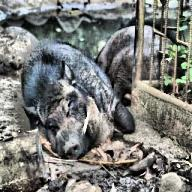boar: (19, 38, 135, 160), (94, 23, 186, 106)
